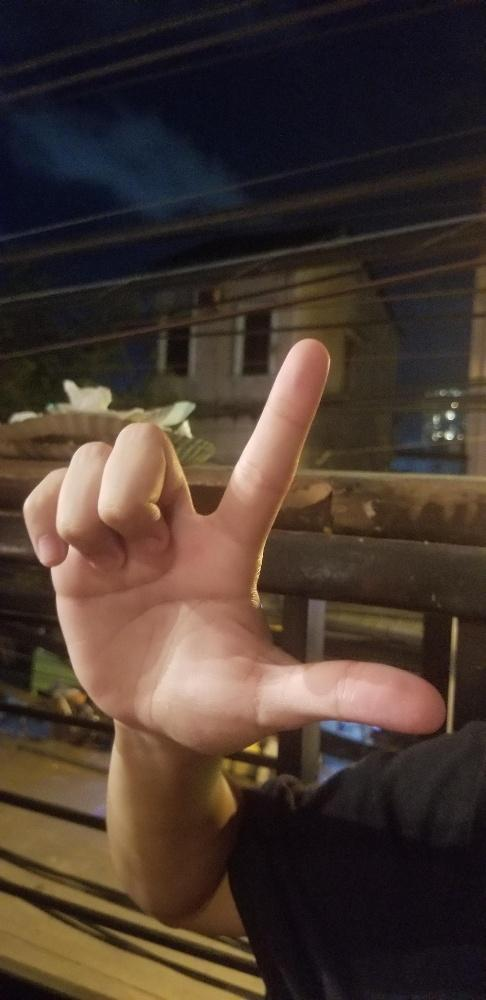l: (20, 335, 449, 748)
